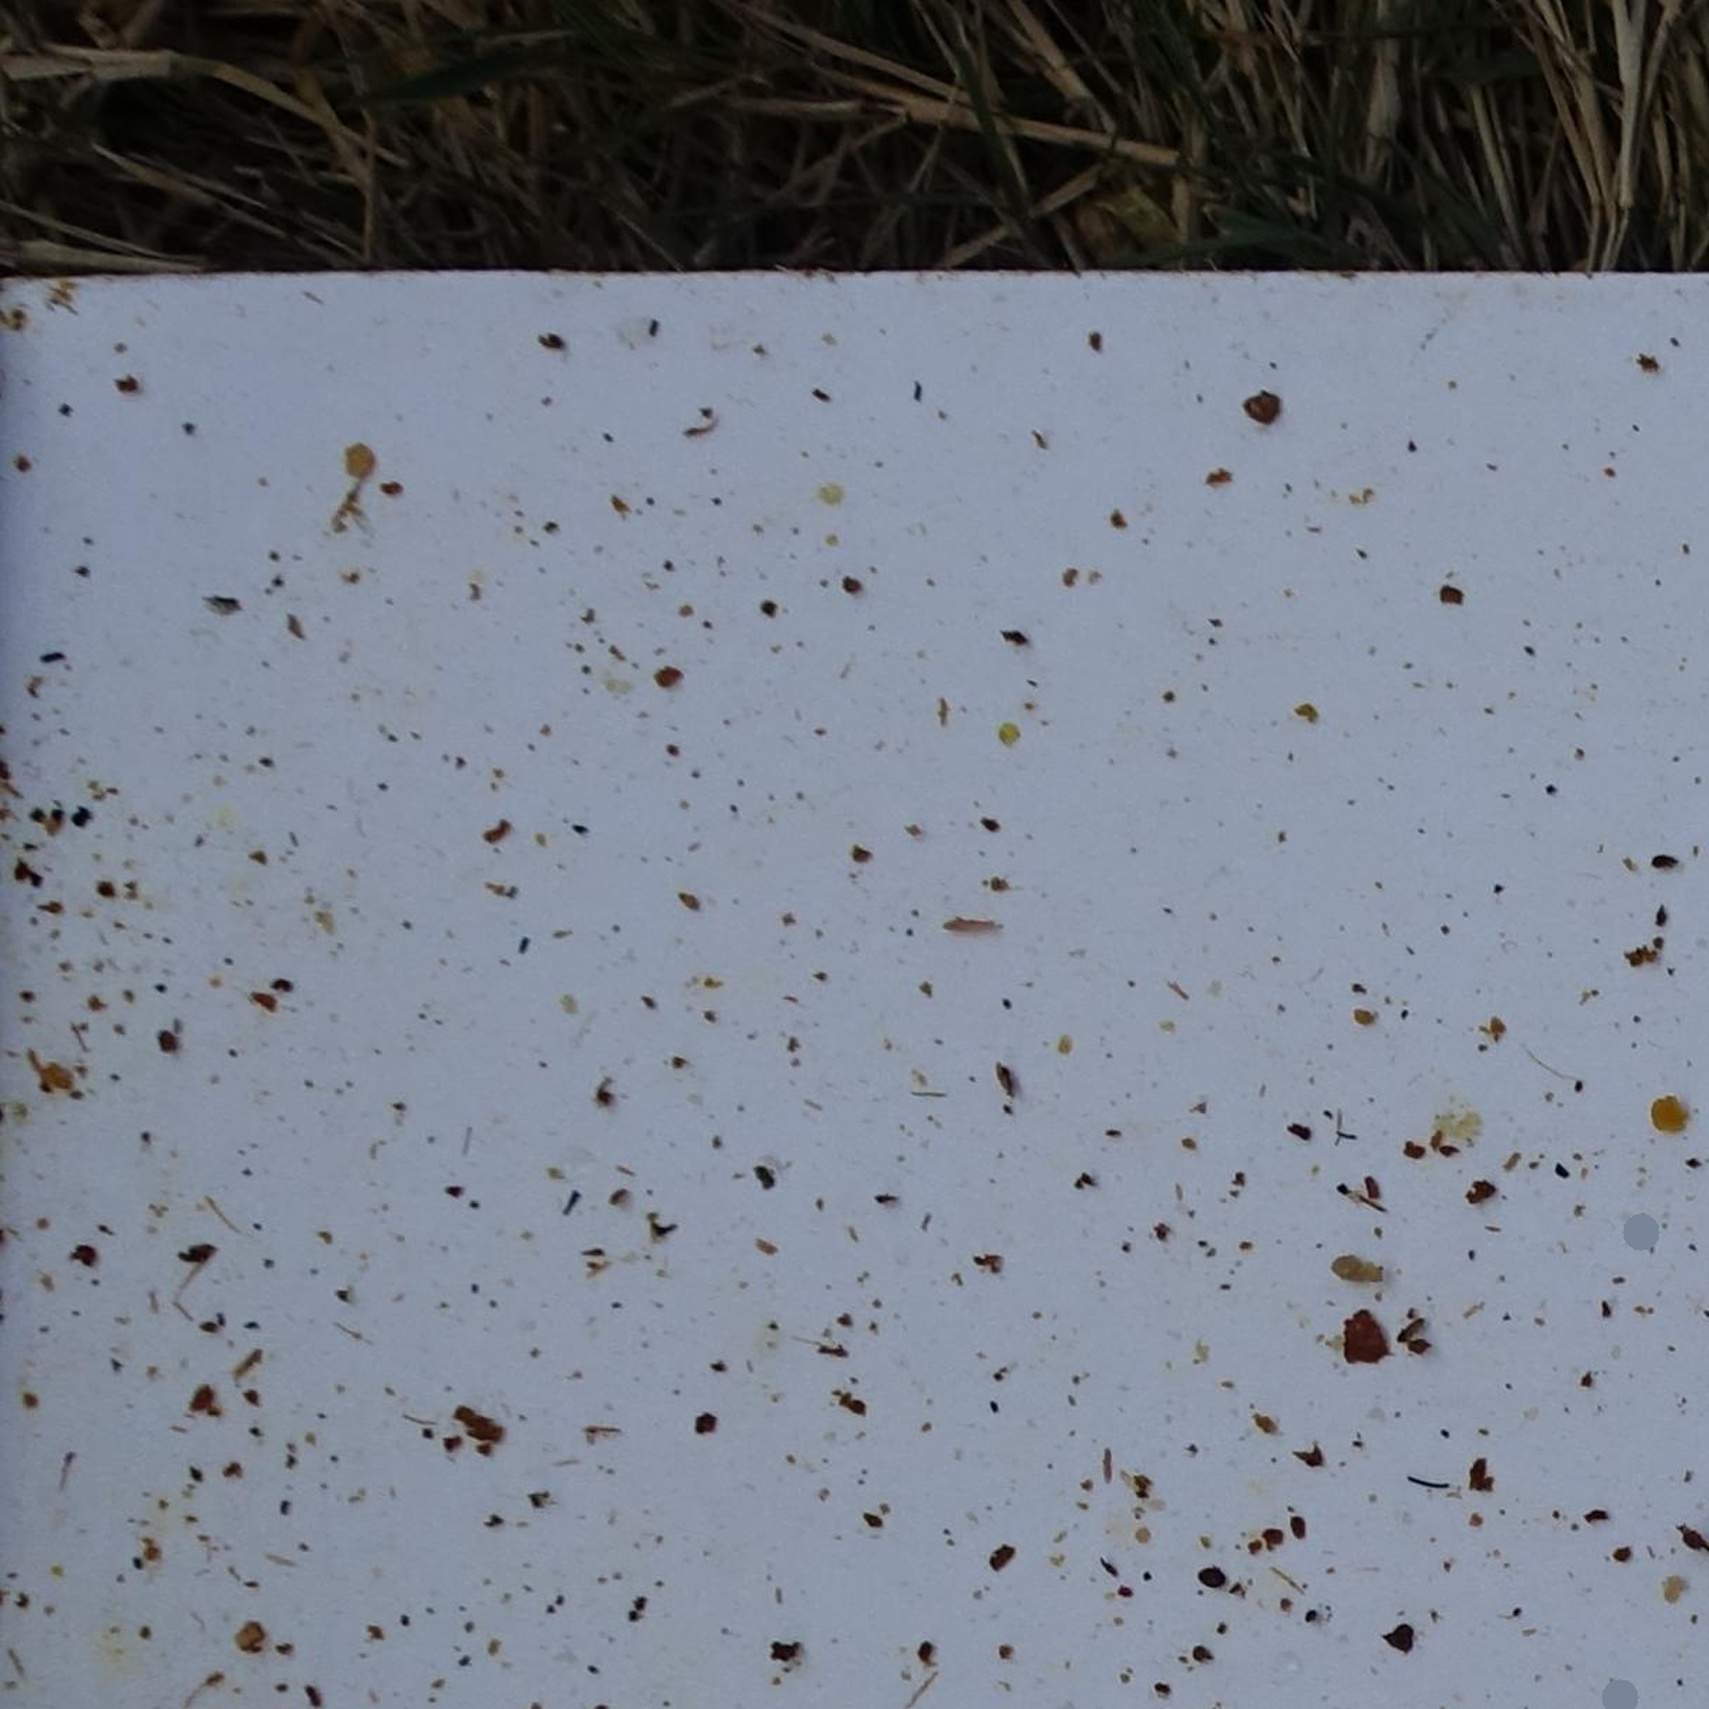Varroa: (1202, 1559, 1236, 1593)
